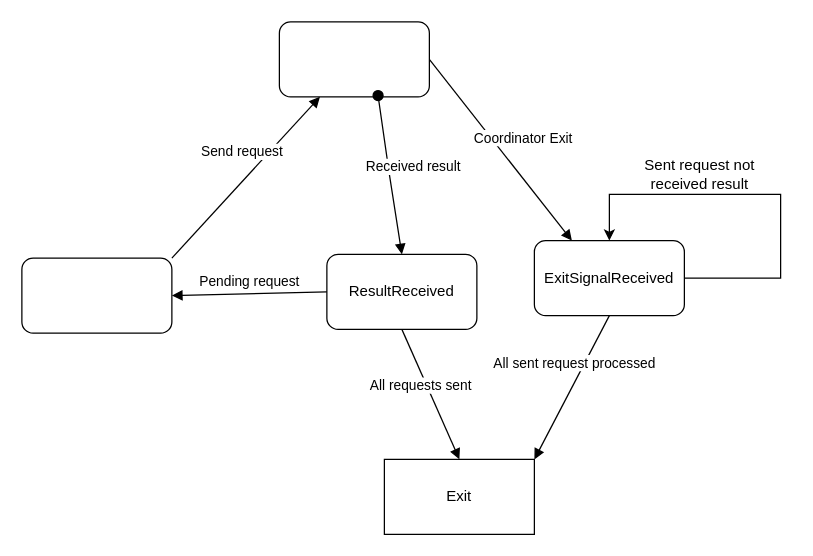
This 813x556 diagram has some shape labels left out. Here are the shapes that lost their labels. From the top down, the centre of each, then its label:
the point at 353,59: AwaitingResult
the point at 96,295: Quiescent/Idle
